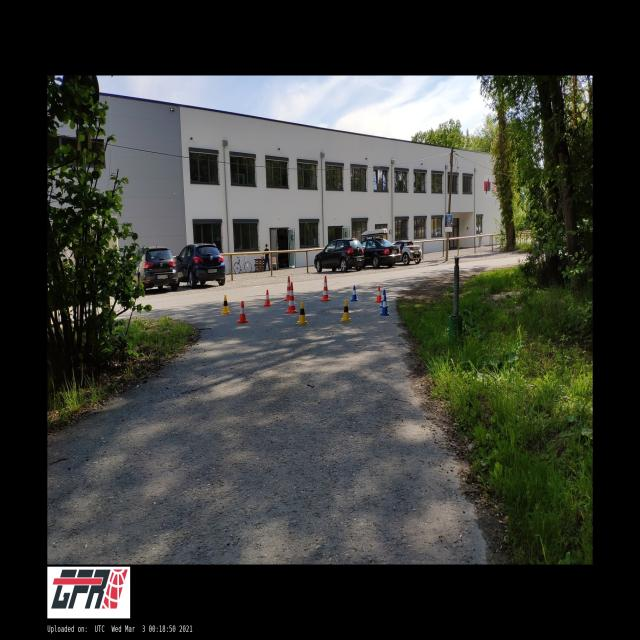blue_cone: (380, 295, 390, 316), (379, 290, 389, 308), (349, 285, 358, 302)
large_orange_cone: (285, 283, 299, 313), (320, 275, 331, 301), (284, 276, 290, 301)
orange_cone: (236, 301, 248, 323), (263, 290, 272, 308), (375, 286, 382, 302)
yellow_cone: (296, 302, 309, 324), (341, 299, 352, 322), (220, 295, 232, 314)
